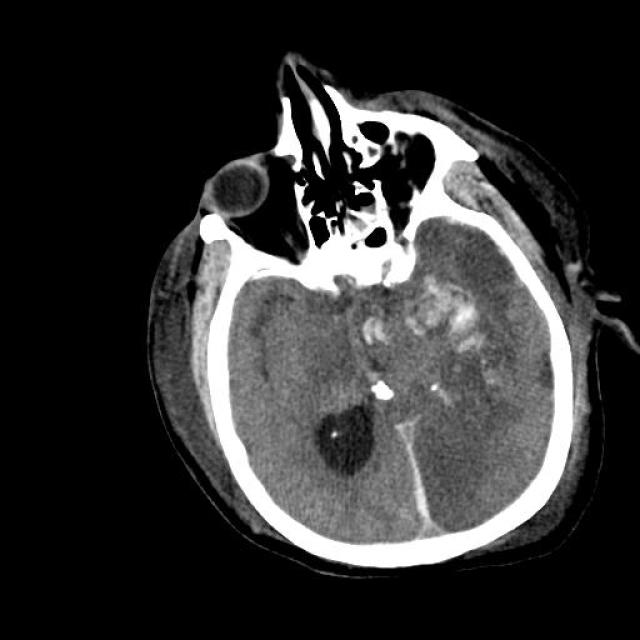Intraparenchymal: (405, 278, 501, 370), (342, 303, 403, 362)
Subdural: (381, 404, 461, 565)
